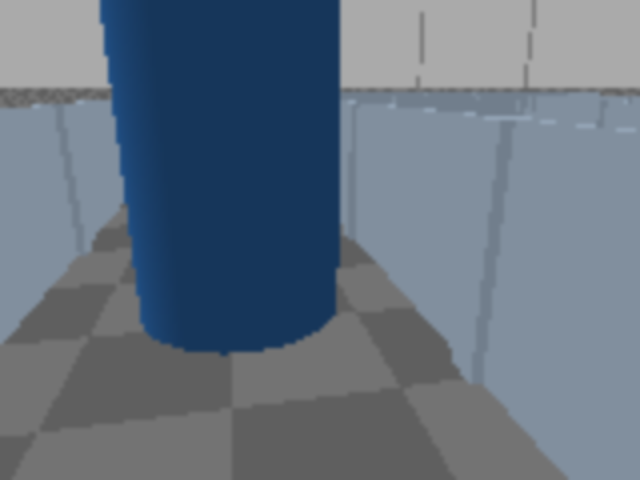person: (0, 0, 351, 353)
